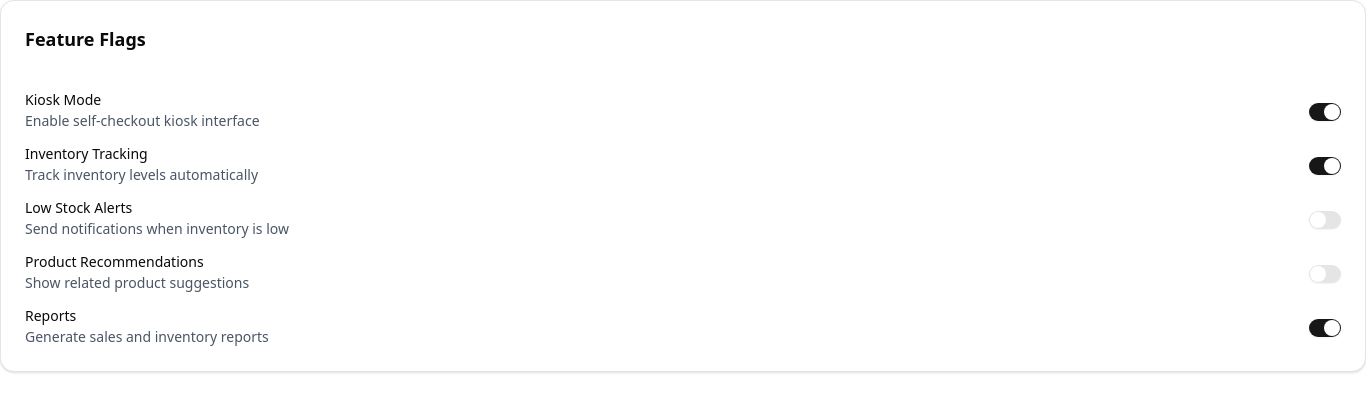
Test: FeatureFlagsSection › shows save and reset buttons when changes are made
Expected: the button "Save Changes" is not shown
Expected: the button "Reset" is not shown
# Toggle a switch
Click the switch named "Low Stock Alerts" in the row of "Send notifications when inventory is low": [1325, 220] box [1309,211,1341,229]
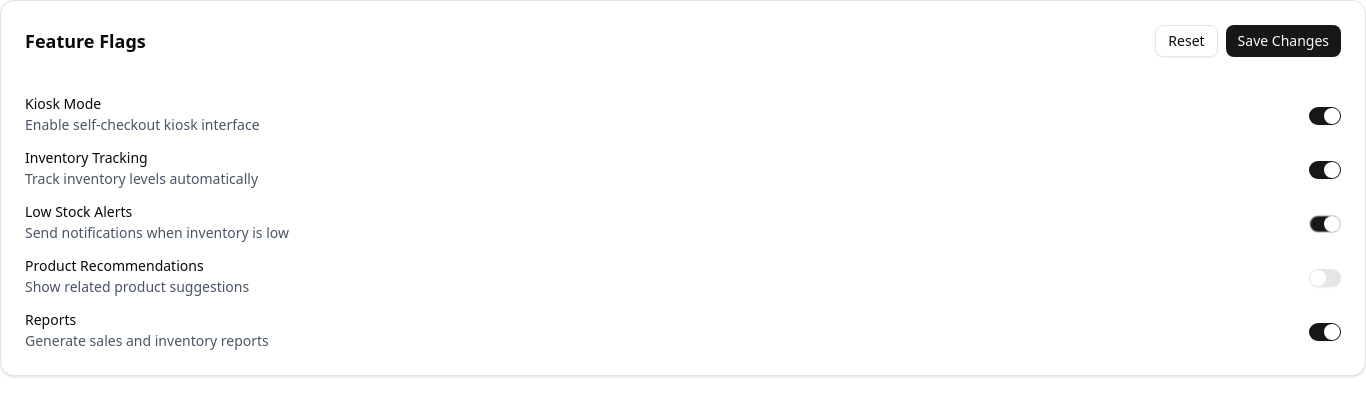
Now the button "Save Changes" is shown, box [1226,25,1341,57]
Now the button "Reset" is shown, box [1155,25,1218,57]
